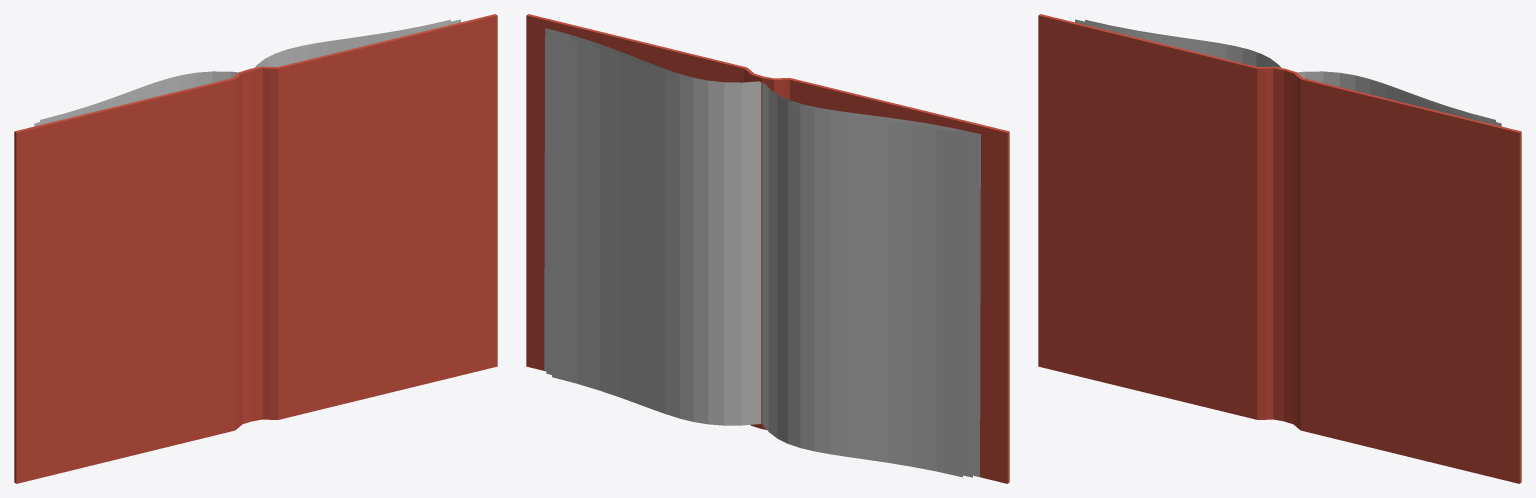
File: book.fbx
The picture shows the model from 3 angles, left to right: view 1: azimuth 30°, elevation 25°; view 2: azimuth 150°, elevation 25°; view 3: azimuth 330°, elevation 25°; orthographic projection.
Visible parts, largest first — view 1: Cover.001, BottomPage.001, MiddlePage.001; view 2: TopPageLeft, TopPageRight, Cover.001, MiddlePage.001, BottomPage.001; view 3: Cover.001, BottomPage.001, MiddlePage.001.
Part boxes in pixels (x1=…): Cover.001: x1=14, y1=14, x2=497, y2=483; BottomPage.001: x1=50, y1=24, x2=452, y2=122; MiddlePage.001: x1=34, y1=19, x2=460, y2=126; TopPageLeft: x1=552, y1=35, x2=761, y2=425; TopPageRight: x1=762, y1=82, x2=962, y2=477; Cover.001: x1=526, y1=14, x2=1009, y2=483; MiddlePage.001: x1=546, y1=31, x2=972, y2=477; BottomPage.001: x1=544, y1=28, x2=980, y2=476; Cover.001: x1=1038, y1=14, x2=1521, y2=483; BottomPage.001: x1=1083, y1=24, x2=1485, y2=122; MiddlePage.001: x1=1075, y1=19, x2=1501, y2=126.
Size of the model in its own units: 442 by 308 by 35.09.
